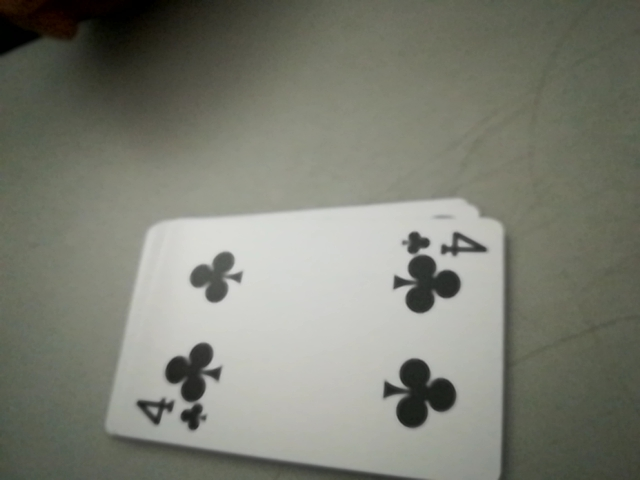mh 4: (125, 390, 210, 440), (401, 220, 494, 262)
